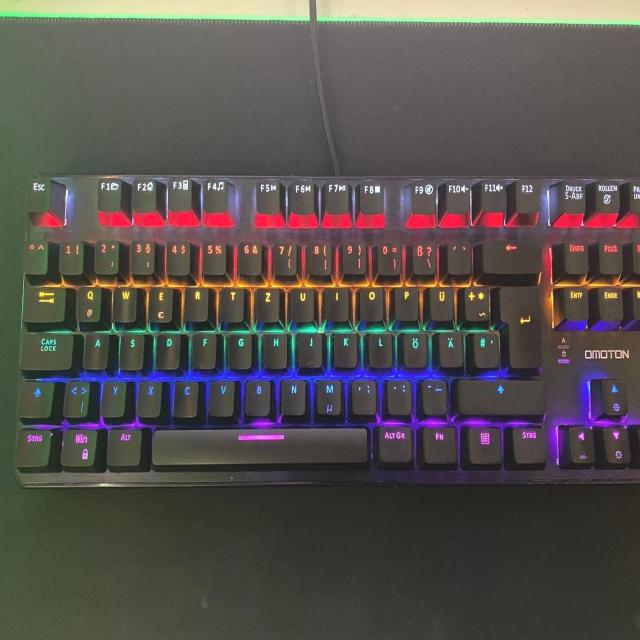0: (375, 238, 401, 276)
1: (58, 238, 84, 274)
2: (92, 236, 119, 274)
3: (129, 236, 155, 274)
4: (165, 237, 190, 276)
5: (200, 238, 226, 275)
6: (235, 238, 262, 275)
7: (271, 239, 296, 276)
8: (305, 238, 331, 276)
9: (340, 238, 366, 275)
a: (81, 330, 109, 368)
accent: (445, 238, 471, 274)
ae: (437, 328, 463, 367)
alt-left: (104, 426, 141, 466)
altgr-right: (376, 422, 412, 463)
b: (243, 376, 270, 415)
c: (171, 377, 198, 417)
caret: (22, 239, 47, 274)
comma: (350, 376, 376, 414)
d: (153, 329, 180, 369)
del: (480, 236, 541, 273)
e: (146, 283, 172, 322)
enter: (497, 281, 542, 369)
f: (190, 329, 216, 368)
g: (226, 330, 251, 368)
h: (261, 330, 287, 367)
hash: (471, 329, 499, 368)
i: (323, 284, 348, 320)
j: (296, 329, 322, 367)
k: (331, 329, 357, 367)
keyboard: (9, 166, 640, 497)
l: (366, 330, 392, 366)
less: (61, 377, 89, 417)
m: (315, 376, 342, 415)
minus: (419, 376, 447, 414)
n: (279, 376, 305, 414)
o: (357, 284, 384, 320)
oe: (401, 329, 428, 367)
p: (392, 283, 418, 320)
plus: (462, 284, 489, 322)
point: (385, 376, 411, 414)
q: (74, 282, 101, 322)
r: (182, 284, 208, 321)
s: (118, 330, 143, 369)
shift-left: (16, 379, 54, 418)
shift-lock: (19, 329, 73, 369)
shift-right: (456, 375, 545, 415)
space: (147, 424, 369, 465)
ss: (410, 238, 436, 275)
strg-left: (14, 426, 51, 465)
strg-right: (510, 423, 546, 464)
t: (218, 284, 244, 321)
tab: (21, 283, 66, 321)
u: (288, 284, 314, 321)
ue: (428, 283, 454, 321)
v: (208, 377, 235, 416)
w: (111, 283, 136, 322)
x: (136, 378, 161, 418)
y: (99, 377, 125, 417)
z: (254, 284, 279, 321)
